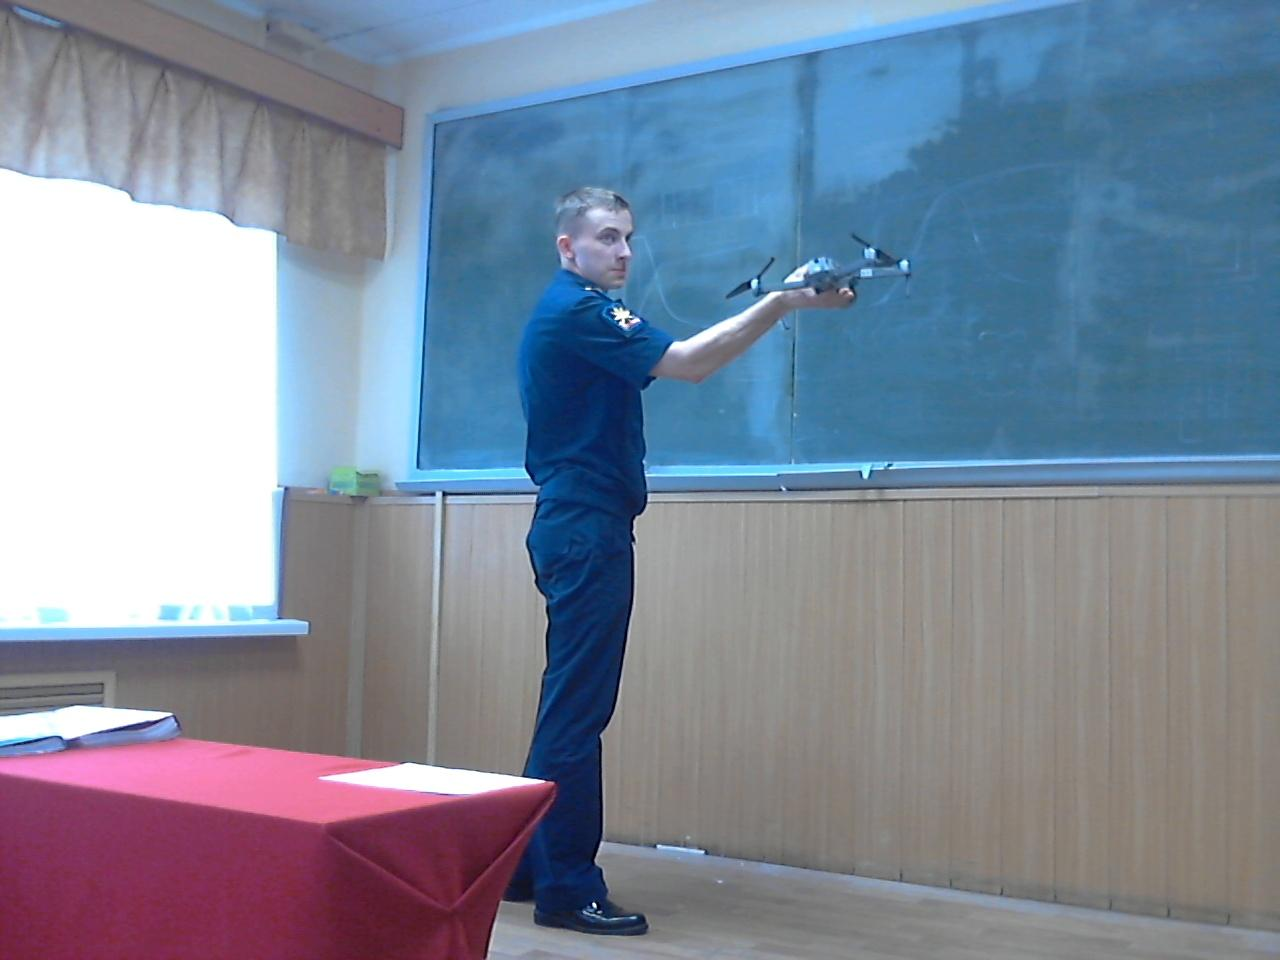drone: (712, 204, 945, 320)
